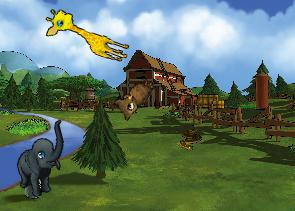elephant: (7, 119, 78, 200)
giraffe: (40, 5, 135, 64)
owl: (108, 69, 156, 123)
